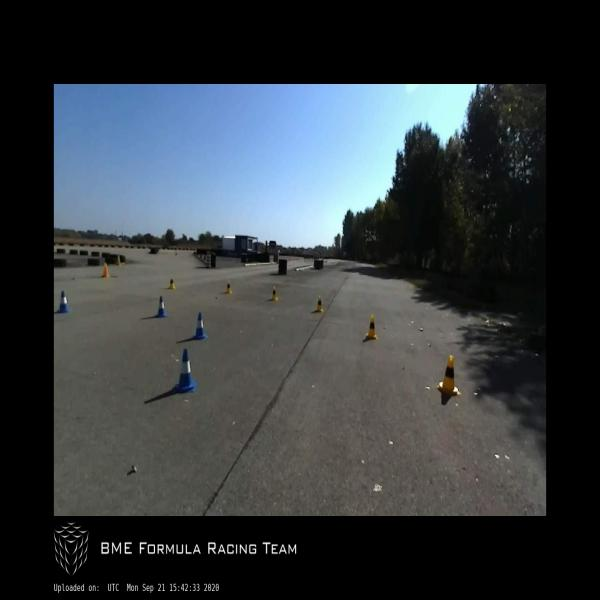blue_cone: (174, 348, 196, 393), (193, 312, 206, 340), (57, 290, 69, 314), (156, 296, 166, 318)
yellow_cone: (437, 356, 460, 396), (366, 315, 377, 340), (315, 296, 323, 312), (271, 286, 277, 300), (168, 278, 174, 289), (226, 282, 231, 294)
